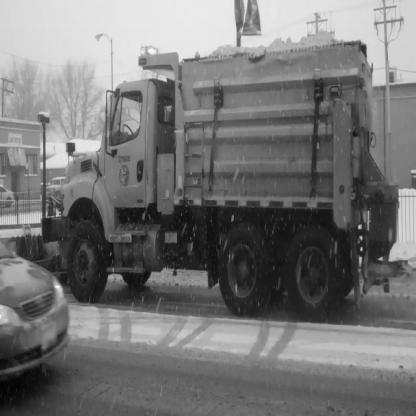truck: (39, 44, 392, 323)
